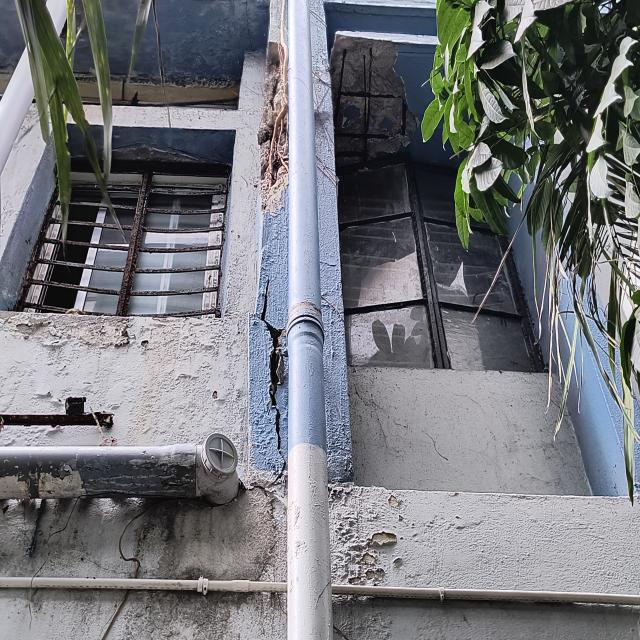crack: (258, 265, 288, 490)
peeling: (2, 241, 250, 424), (329, 485, 414, 587)
spalling: (330, 33, 419, 167), (258, 39, 289, 214)
stain_mould: (0, 397, 113, 428)
